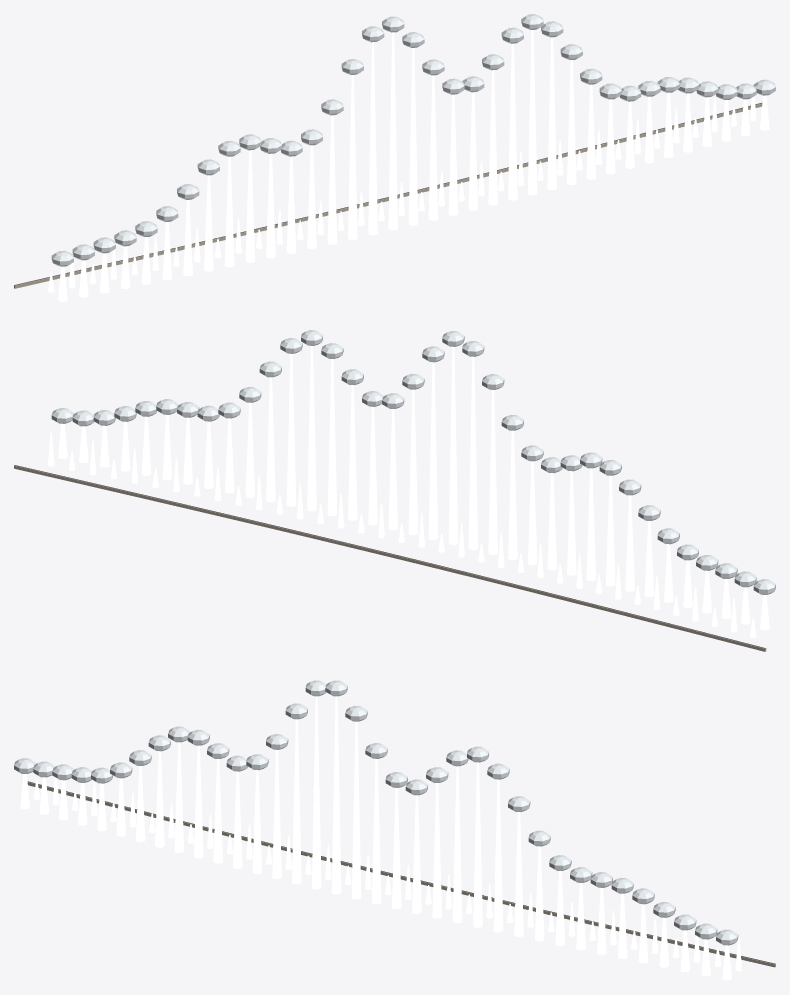
The model's file is fuentes-lago.glb.
3 views of the same model, one above another, from view 1: azimuth 30°, elevation 25°; view 2: azimuth 150°, elevation 25°; view 3: azimuth 330°, elevation 25° (orthographic).
Visible parts, largest first — view 1: fuentes-lago; view 2: fuentes-lago; view 3: fuentes-lago.
Part boxes in pixels (x1=…): fuentes-lago: x1=14, y1=14, x2=775, y2=301; fuentes-lago: x1=14, y1=330, x2=775, y2=651; fuentes-lago: x1=14, y1=680, x2=775, y2=980.
Bounding box in the file's own units: 260 × 69.58 × 23.76.
